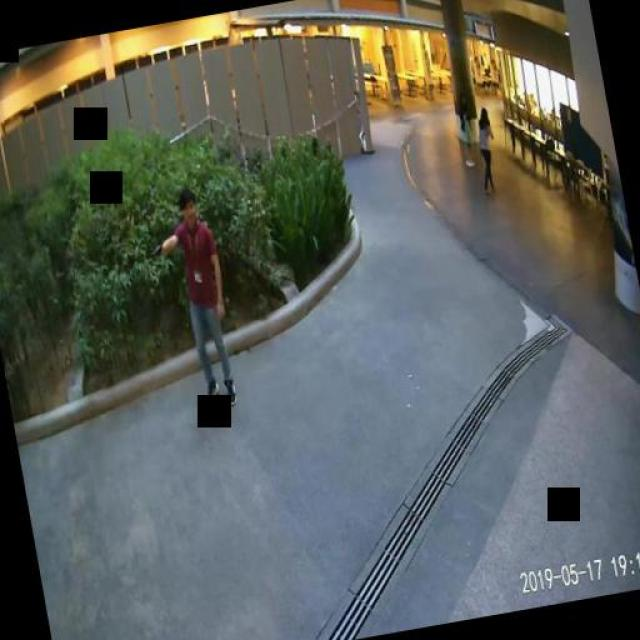gun: (146, 239, 164, 259)
